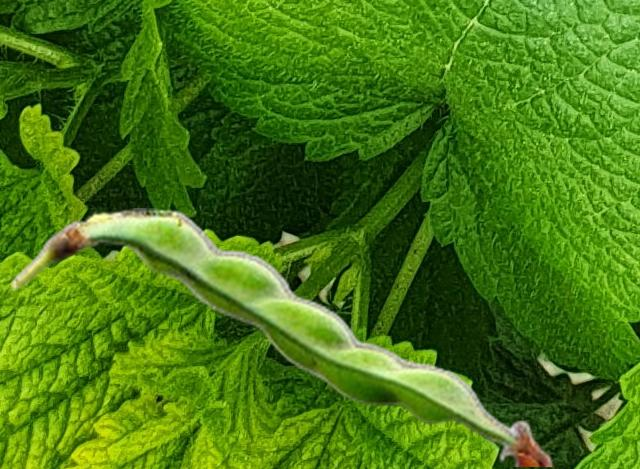pea: (11, 208, 553, 465)
